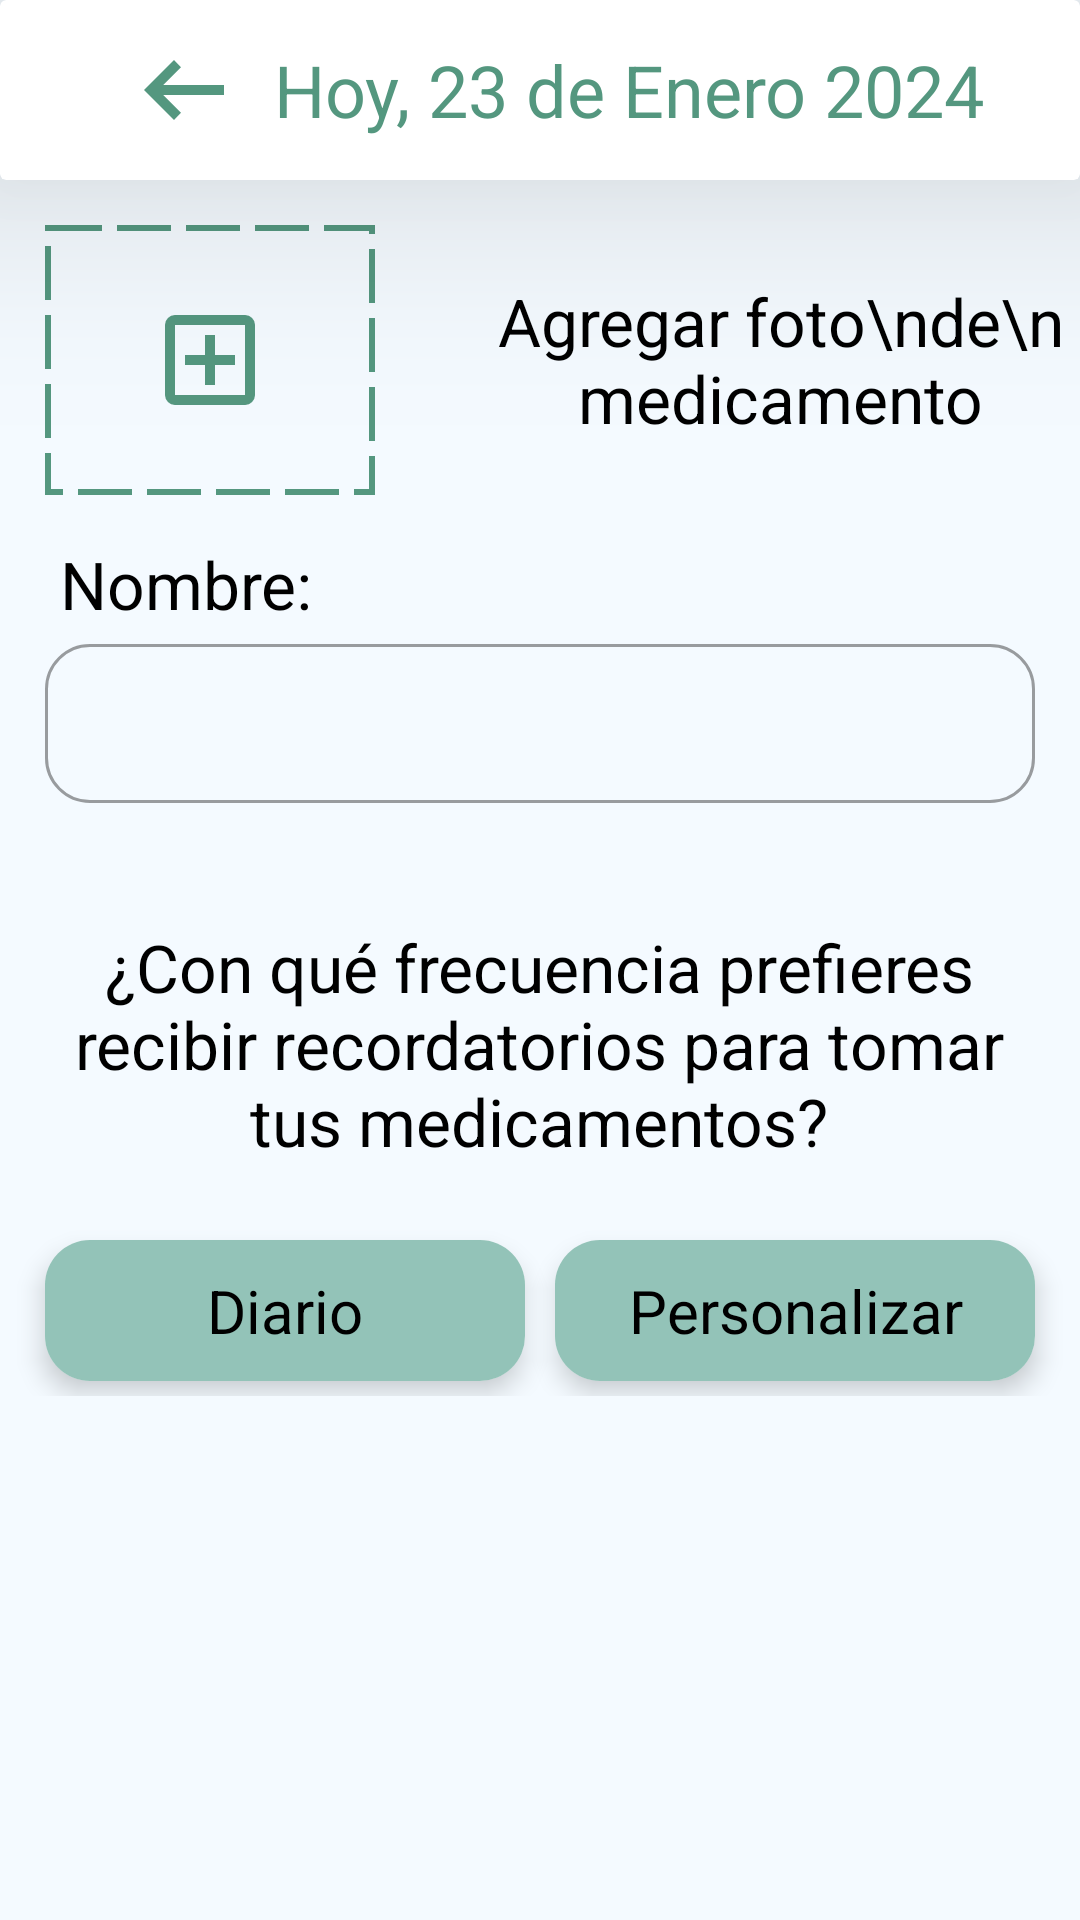

Locate icon controls on the screen. Image size 1080w x 1920h, boxes as box=[x1, y1, x2, y2].
arrow left: box=[144, 60, 224, 120]
